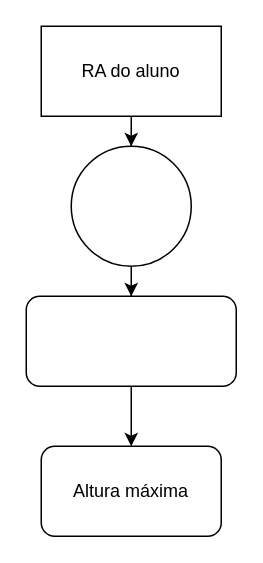
The diagram is 263 pixels wide and 563 high, and some of its shapes have lost their labels. The shapes that lost their labels are listed below. From the top down, each one's centre as x and y in pixels, then its label:
At point (130, 205): "Soma dos dígitos".
At point (130, 340): "Velocidade inicial (Soma dos dígitos x 2)".
